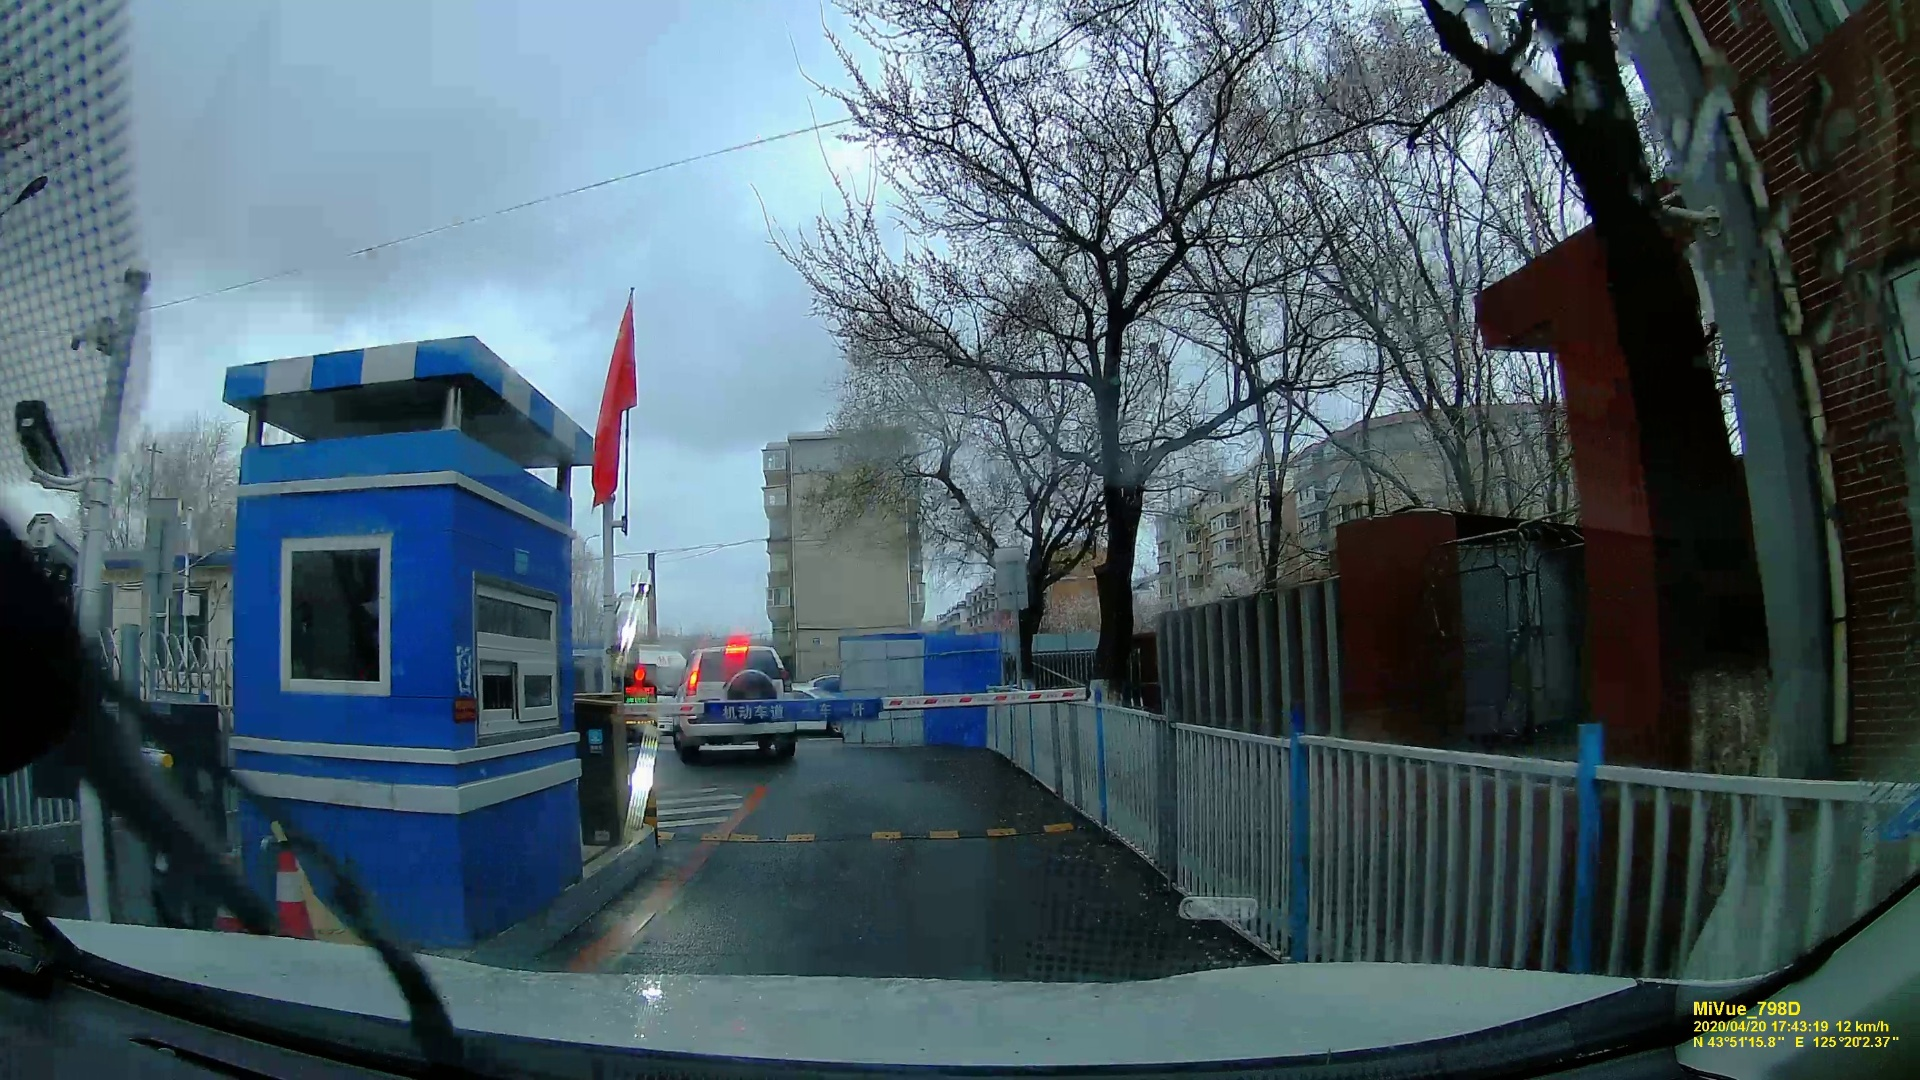vehicle: (669, 640, 807, 765)
